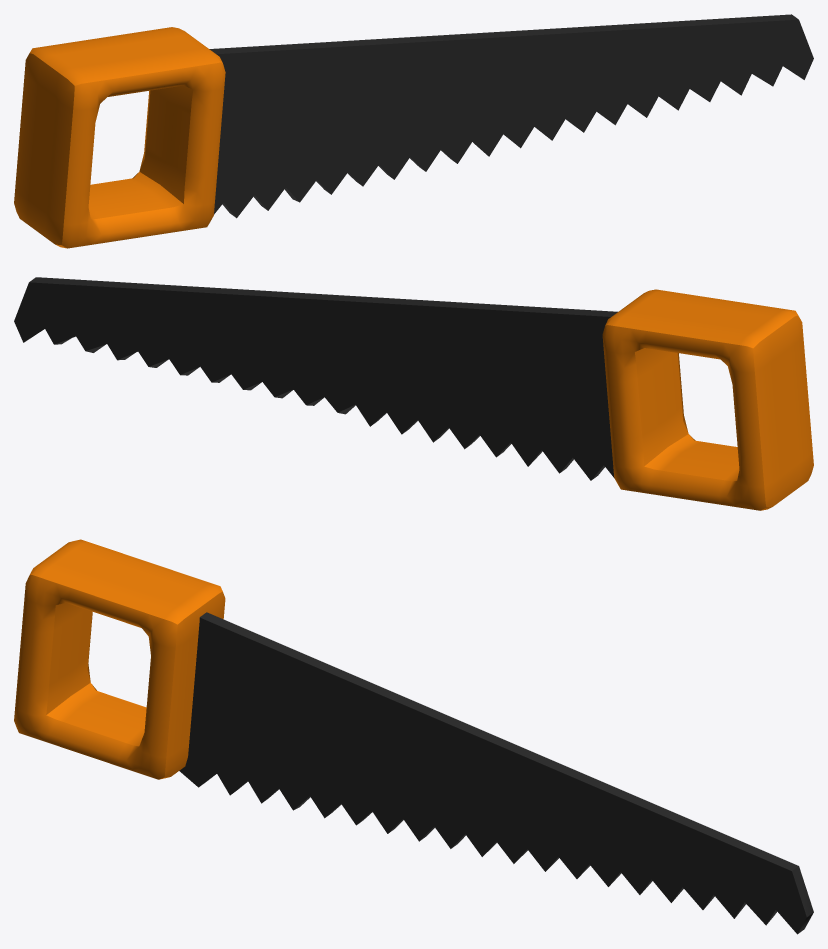
File: scie.fbx
3 renders of one model, top to bottom at view 1: azimuth 30°, elevation 25°; view 2: azimuth 150°, elevation 25°; view 3: azimuth 330°, elevation 25°, orthographic.
Parts seen in each view (by area): view 1: scie; view 2: scie; view 3: scie.
Boxes of the visible parts, box(x1,y1,x2,y2) form: scie: box(14, 14, 813, 248); scie: box(14, 277, 813, 510); scie: box(14, 539, 813, 934).
Size of the model in its own units: 59.2 by 14.46 by 7.02.
